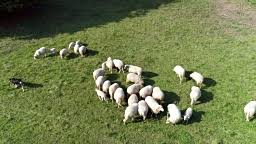sheep: (145, 93, 162, 114), (242, 98, 256, 123), (123, 72, 145, 87), (173, 63, 187, 86), (91, 62, 107, 81), (123, 104, 140, 121), (11, 77, 29, 93), (188, 86, 204, 103), (190, 71, 204, 90), (167, 102, 180, 122), (138, 82, 154, 98), (137, 98, 149, 119), (123, 64, 142, 77), (103, 82, 119, 97), (111, 57, 125, 74), (126, 83, 142, 97), (182, 105, 193, 125), (114, 88, 126, 106), (153, 86, 166, 102), (102, 56, 115, 71), (92, 75, 104, 91), (127, 94, 140, 108), (101, 79, 111, 97), (34, 45, 47, 58), (73, 40, 82, 56), (47, 44, 56, 57), (78, 44, 85, 58), (67, 38, 75, 49), (59, 47, 67, 58)
